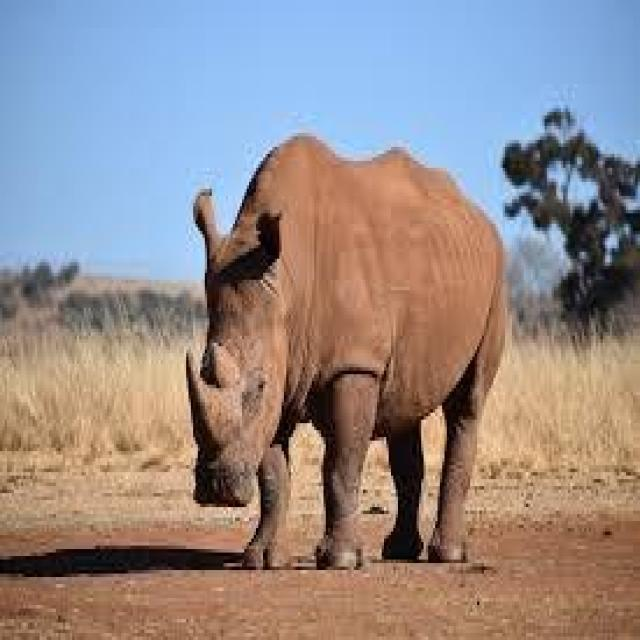Rinoceros: (172, 105, 573, 598)
